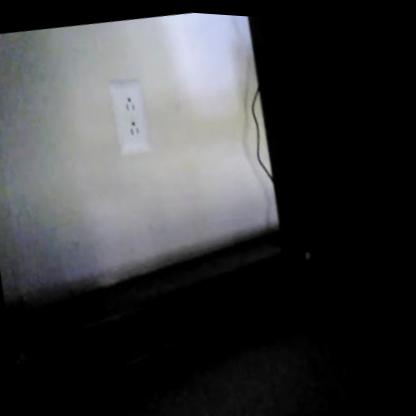OUTLET: (107, 77, 157, 159)
